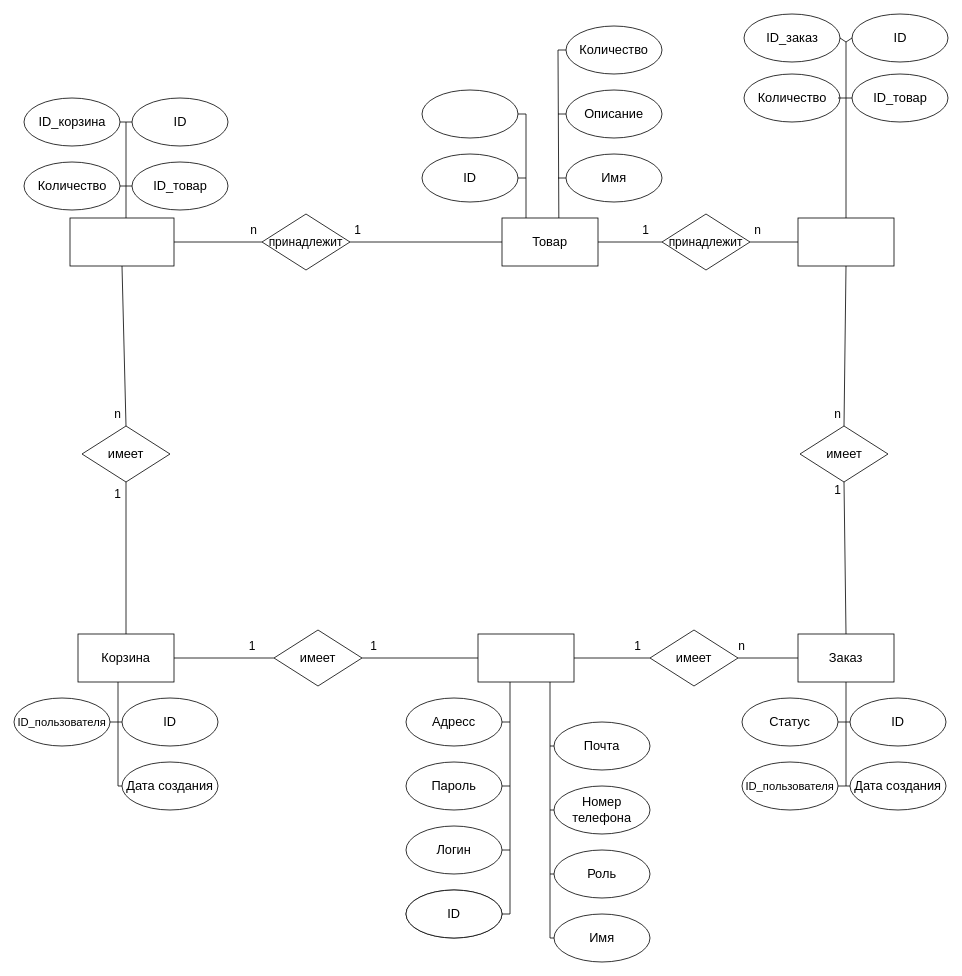
Image size: 962x976. Some labels were removed from this diagram. The shapes that lost their labels are listed below. From the top down, each one's centre as x and y in pixels, then its label:
point (469, 113): Цена
point (121, 241): Деталь корзины
point (845, 241): Деталь заказа
point (525, 657): Пользователь
